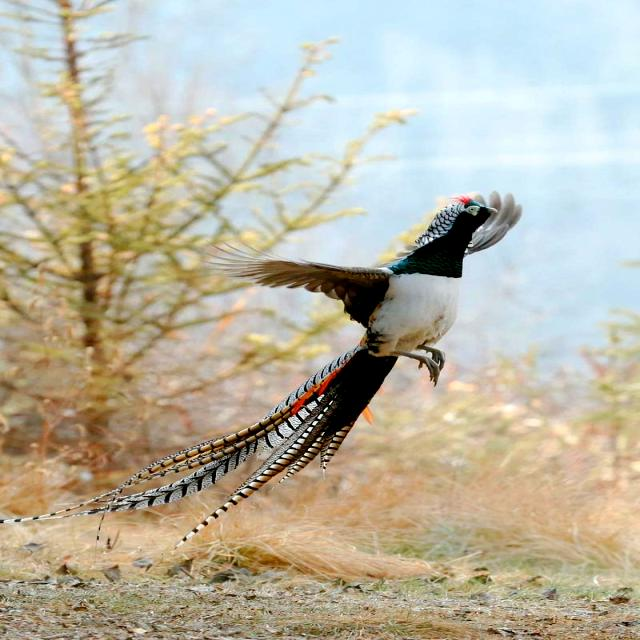Chrysolophus amherstiae: (33, 345, 397, 542)
